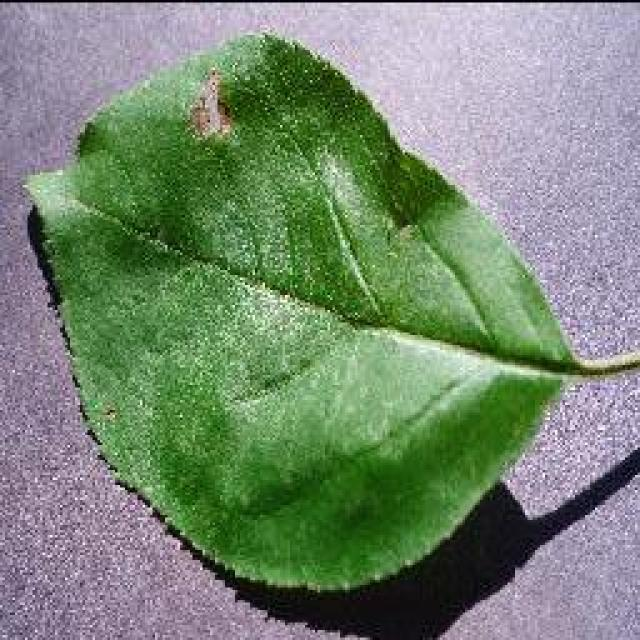Apple___Black_rot: (14, 24, 579, 595)
